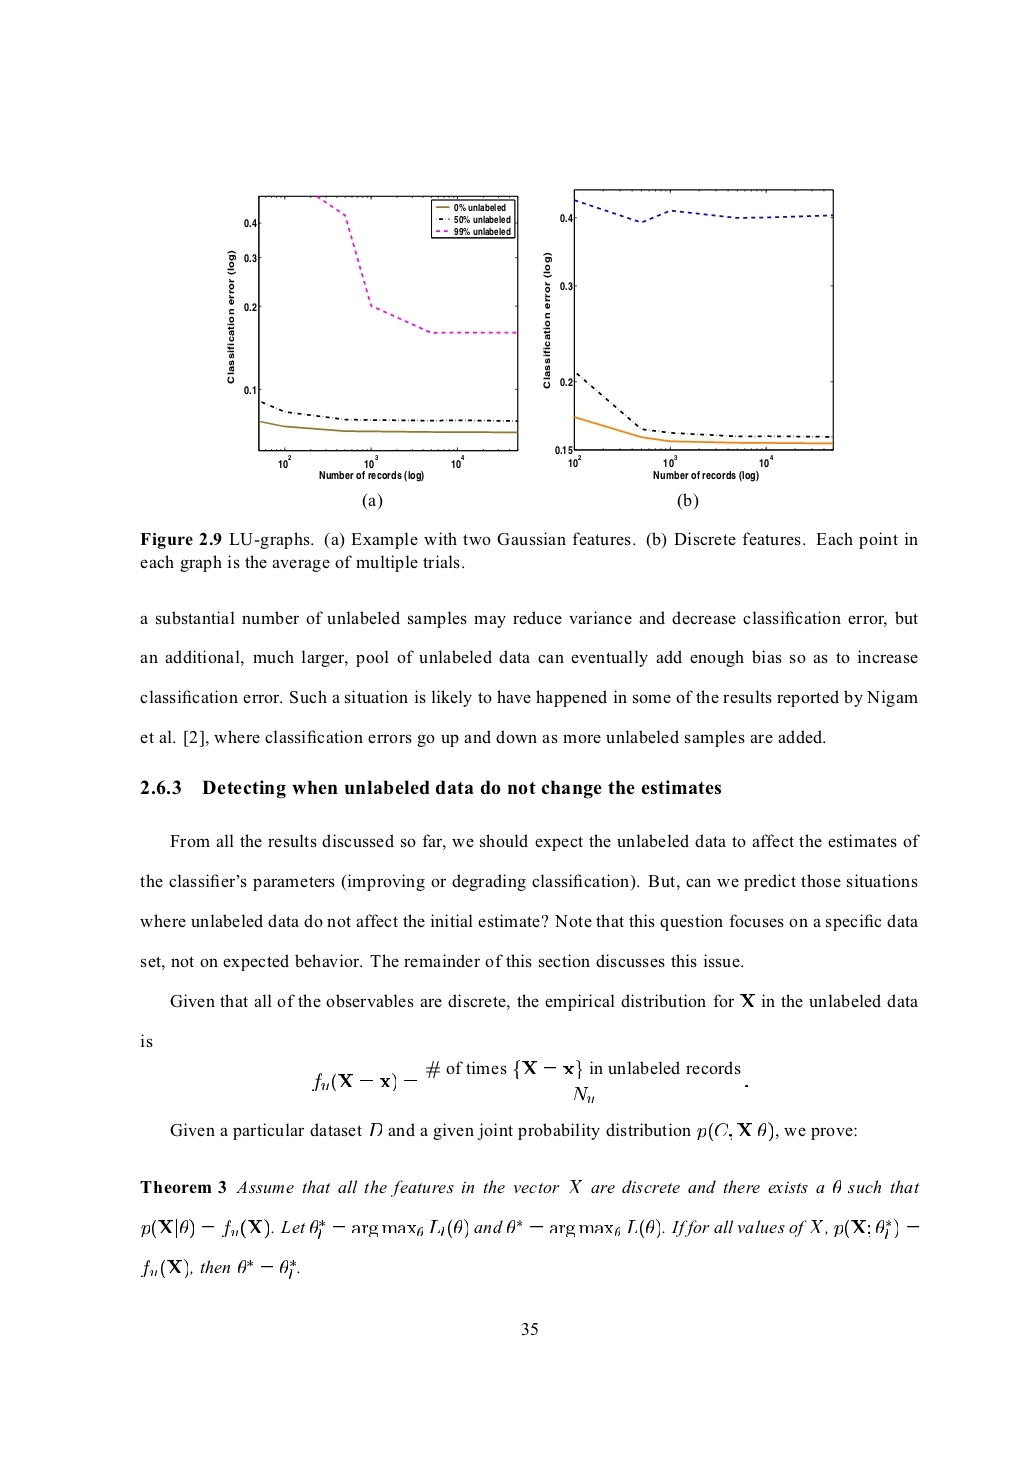figure: (543, 189, 834, 481), (227, 194, 518, 482)
formula: (312, 1059, 746, 1103)
